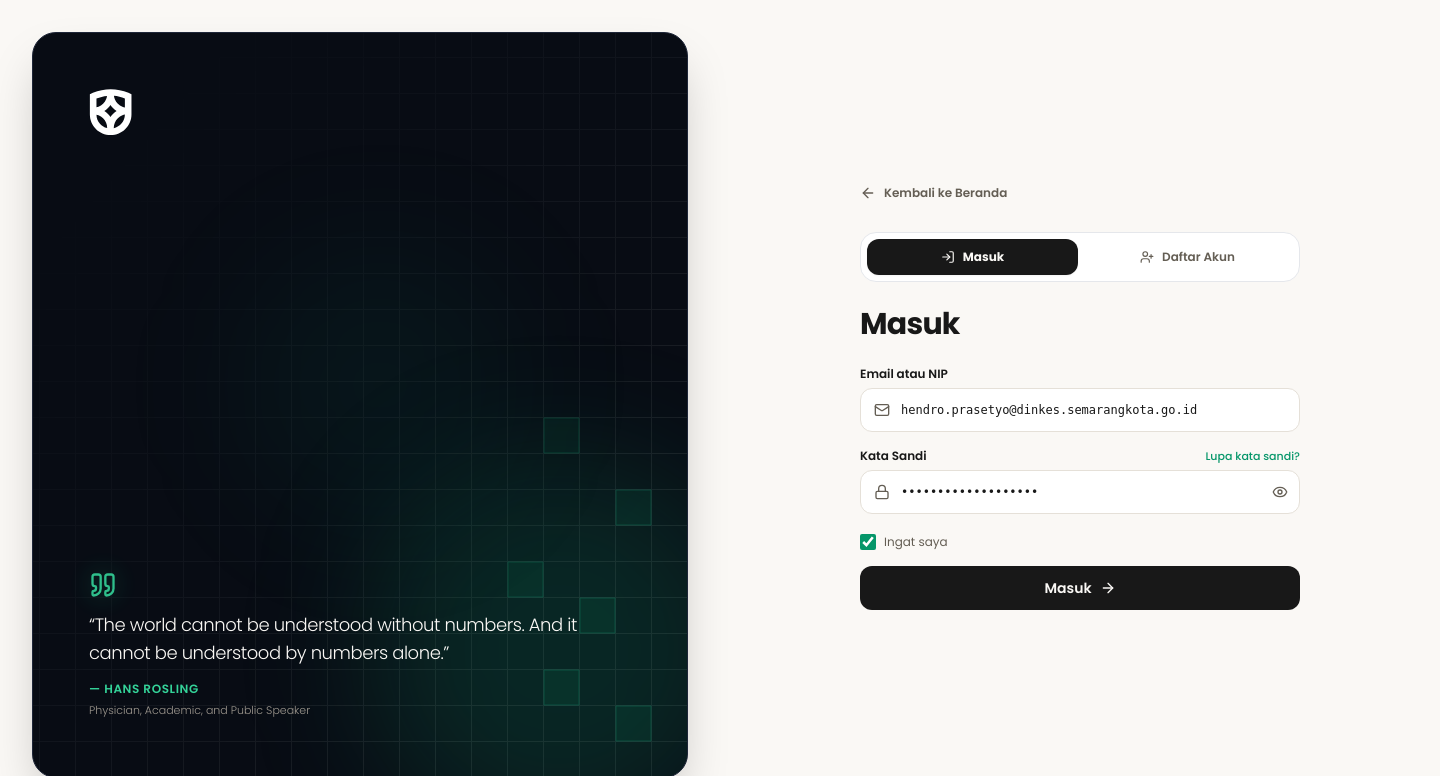
Scenario: Login Page (/login and src/app/login/page.tsx) › rejects unauthorized register attempts with notification
Click the button "Daftar Akun".
click(1188, 257)  # box x1=1082 y1=239 x2=1293 y2=275
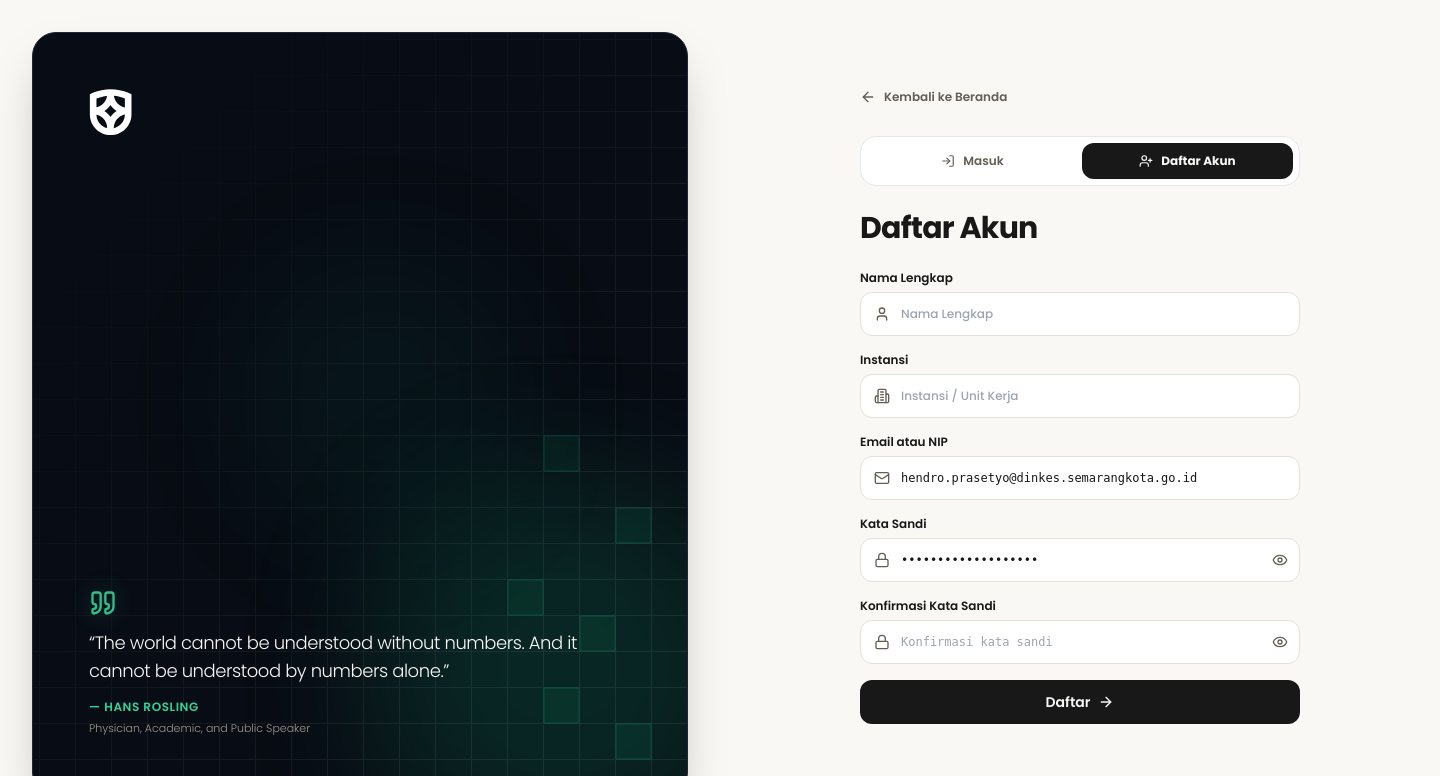
// Fill required register inputs
Type "Budi Santoso" into the field with placeholder "Nama Lengkap".
click(1080, 314); type("Budi Santoso")  # box x1=860 y1=292 x2=1300 y2=336
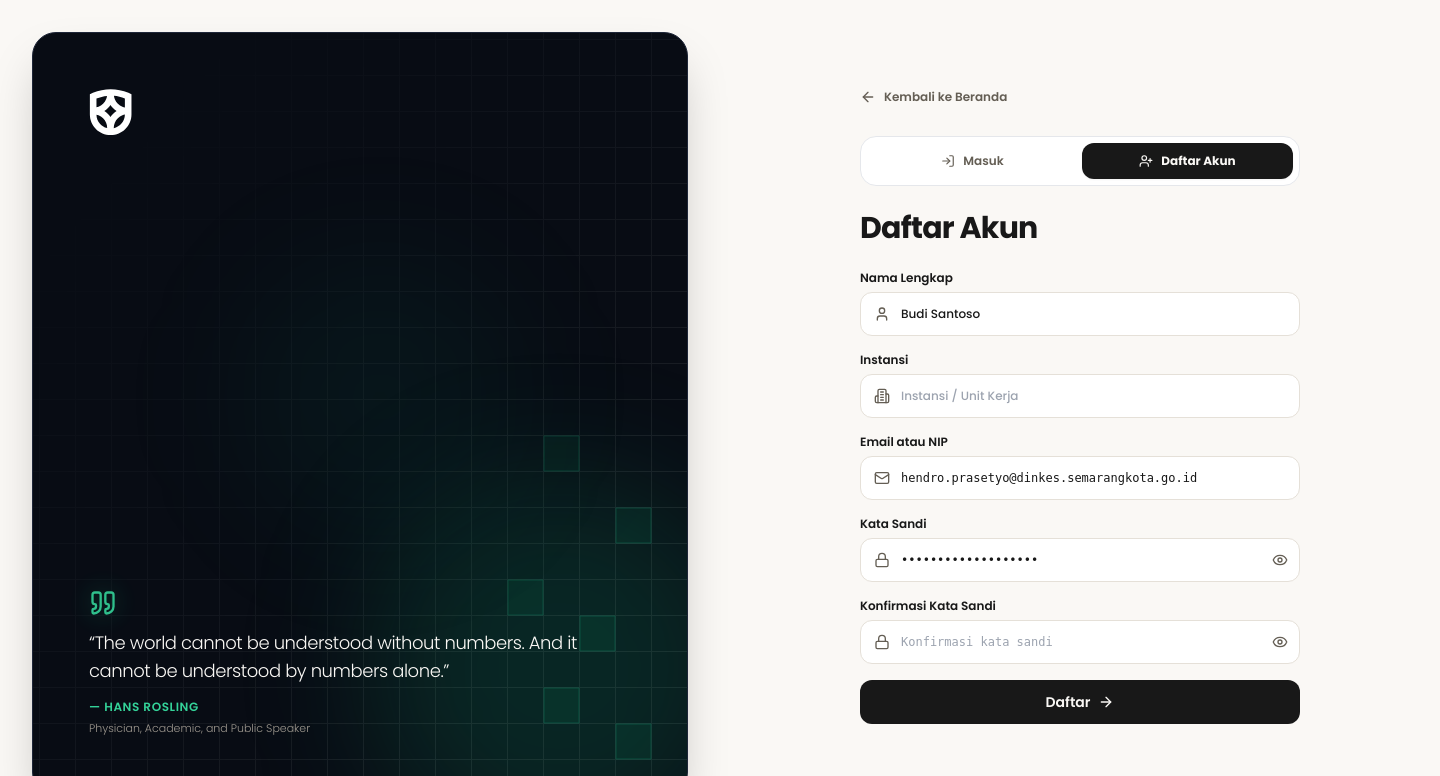
Type "Dinkes" into the field with placeholder "Instansi / Unit Kerja".
click(1080, 396); type("Dinkes")  # box x1=860 y1=374 x2=1300 y2=418
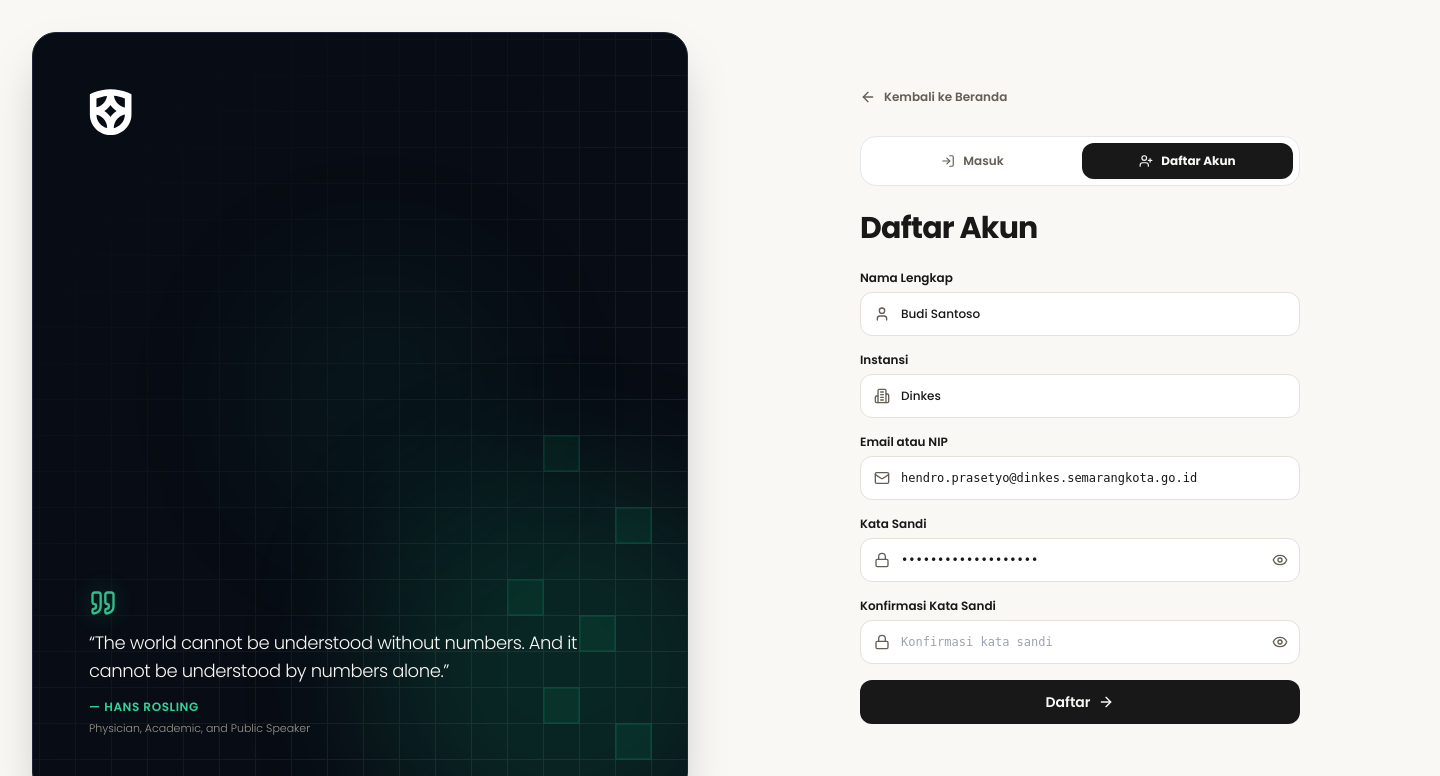
Type "SandiKedinasan@2026" into the password field with placeholder "Konfirmasi Kata Sandi".
click(1080, 642); type("SandiKedinasan@2026")  # box x1=860 y1=620 x2=1300 y2=664
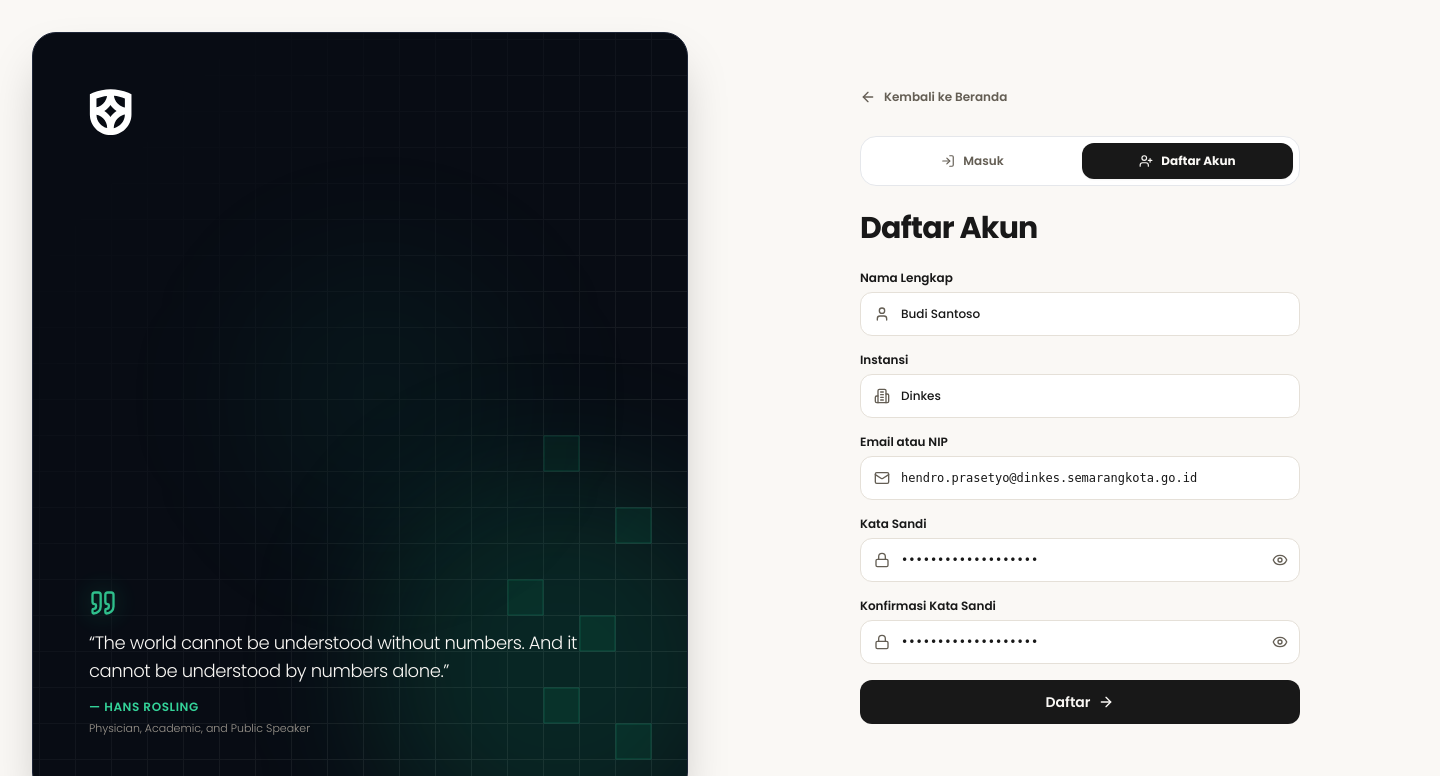
Click the button "Daftar".
click(1080, 702)  # box x1=860 y1=680 x2=1300 y2=724
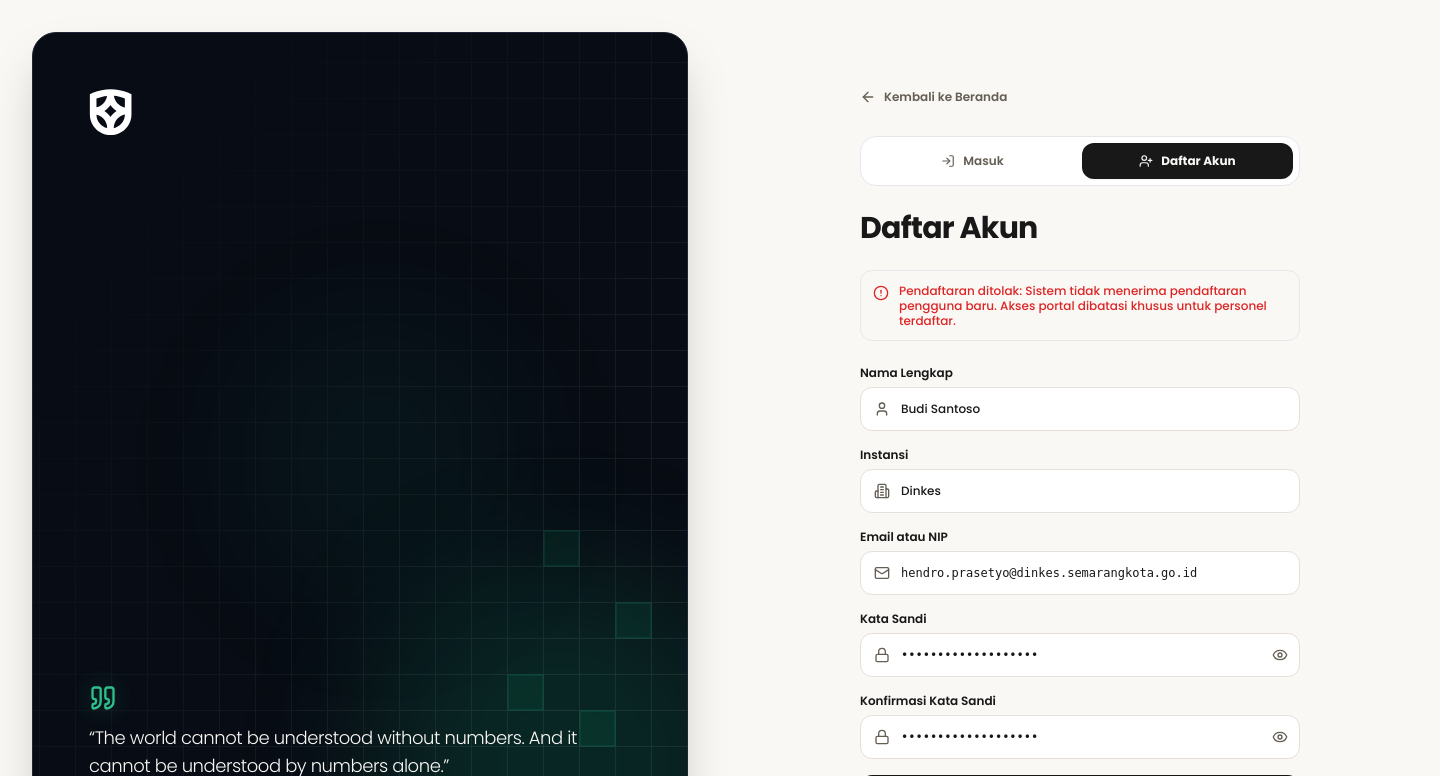
expect the text "Pendaftaran ditolak" is shown: met, box x1=899 y1=282 x2=1267 y2=329
